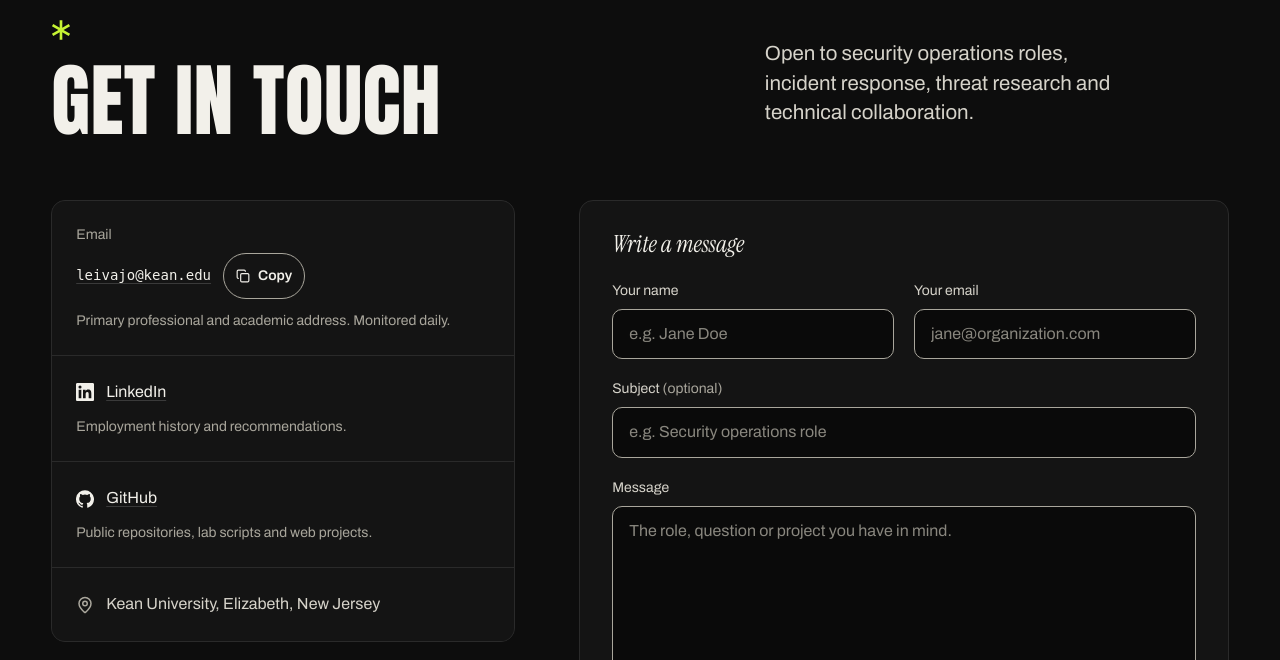
Test: Contact › composes the same mailto link on a valid submit
In the field labelled "Your name": (753, 334) x1=612 y1=309 x2=894 y2=359, type "Jane Doe"
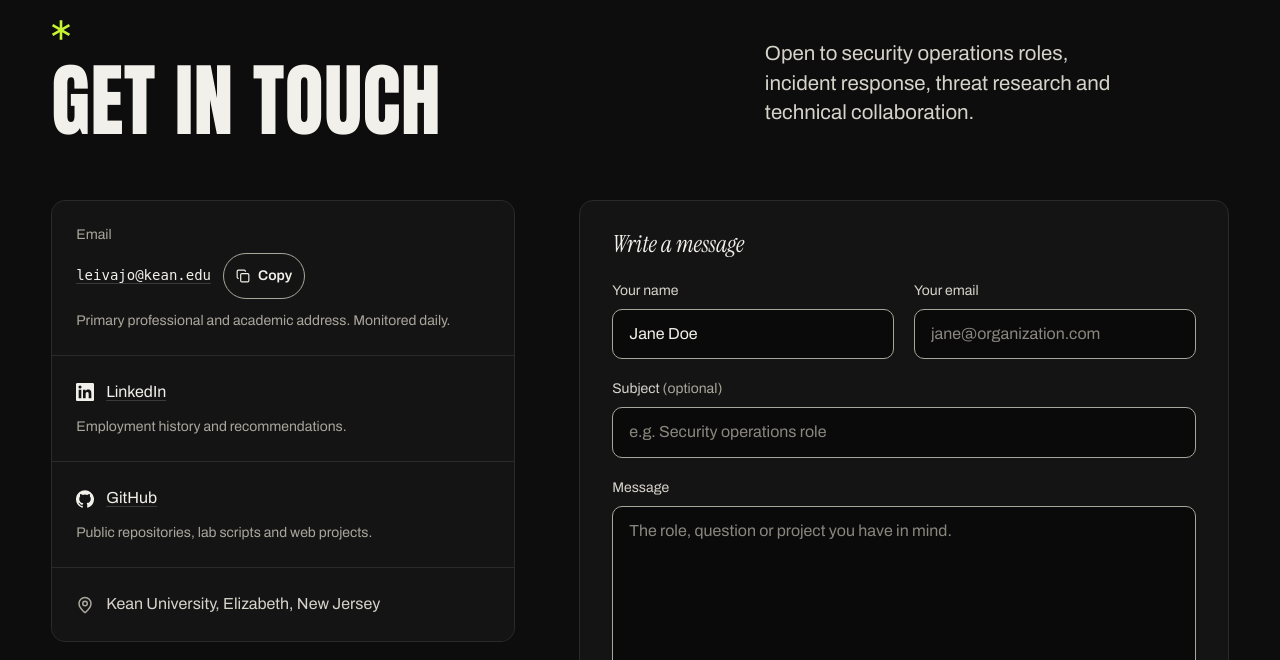
In the field labelled "Your email": (1055, 334) x1=914 y1=309 x2=1196 y2=359, type "jane@example.com"
(page scrolled)
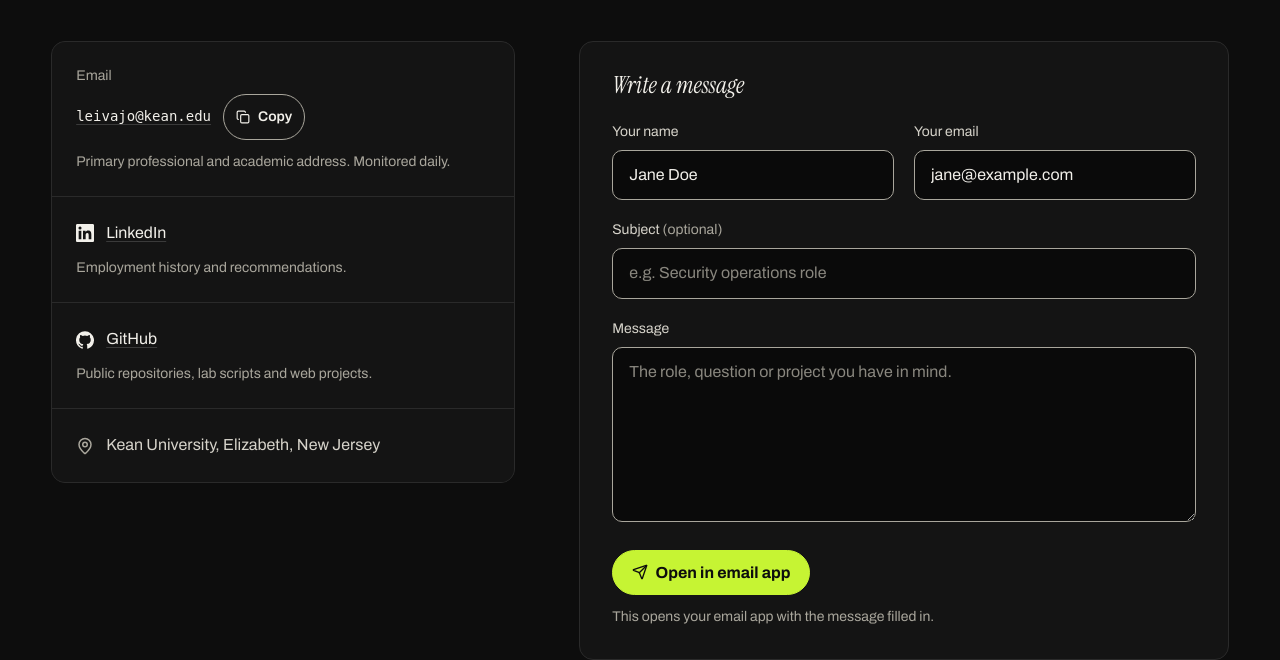
In the text box labelled "Message": (904, 435) x1=612 y1=347 x2=1196 y2=522, type "Hello"
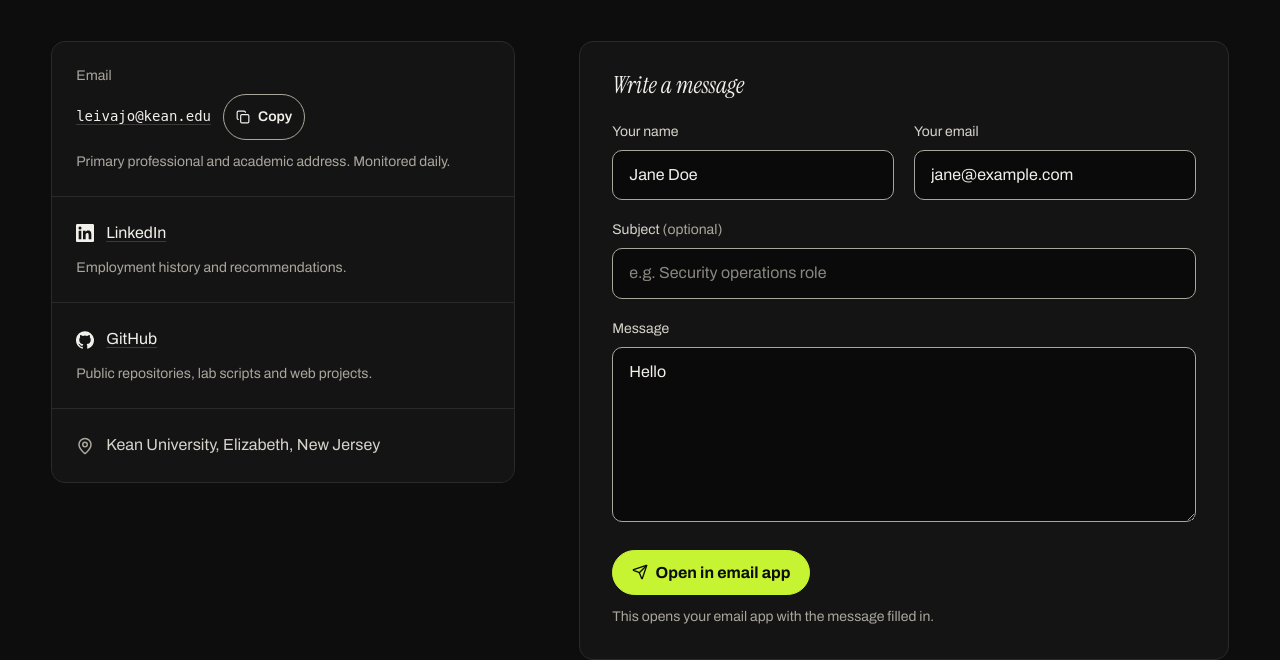
Click the button "Open in email app": (711, 572) x1=612 y1=550 x2=810 y2=595
(page scrolled)
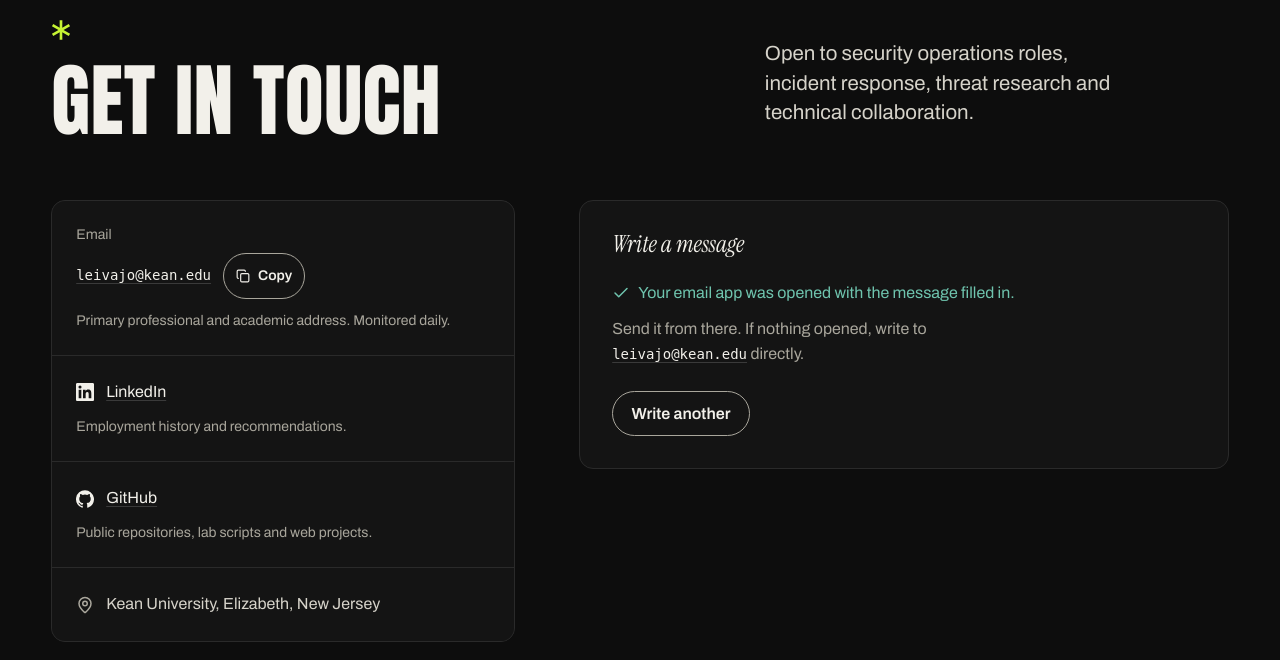
expect the text "Your email app was opened with the message filled in." is shown: met, box x1=612 y1=284 x2=1015 y2=302
expect the button "Write another" is shown: met, box x1=612 y1=391 x2=750 y2=436
